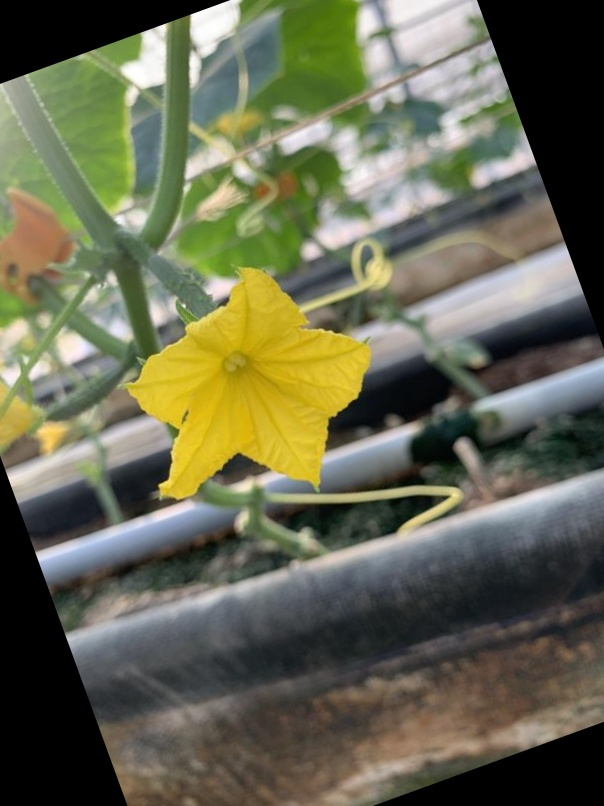flowering: (77, 247, 378, 503)
